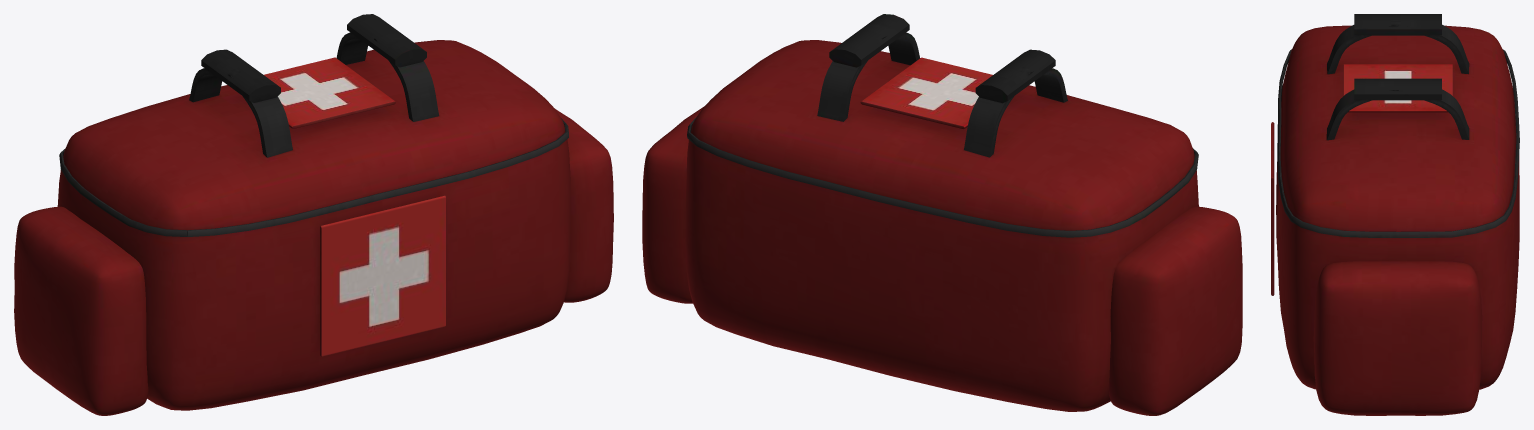
Rendered from item_medkit.glb.
The picture shows the model from 3 angles, left to right: view 1: azimuth 30°, elevation 25°; view 2: azimuth 150°, elevation 25°; view 3: azimuth 270°, elevation 25°; orthographic projection. The views are drawn at different scales.
Parts seen in each view (by area): view 1: body; view 2: body; view 3: body.
Part boxes in pixels (x1,y1,x2,y2): body: [14, 14, 613, 415]; body: [642, 14, 1242, 415]; body: [1271, 14, 1519, 415].
Bounding box in the file's own units: 0.5155 × 0.2741 × 0.2271.
1 material, 1 textured.
